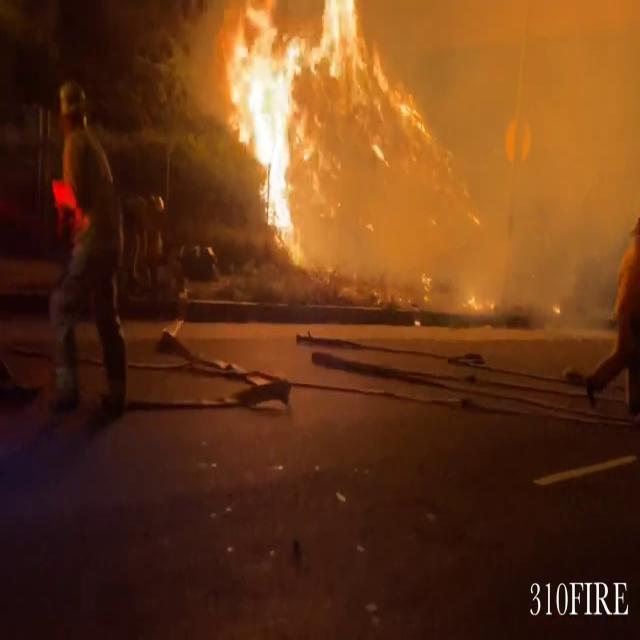Fire: (198, 0, 367, 236)
